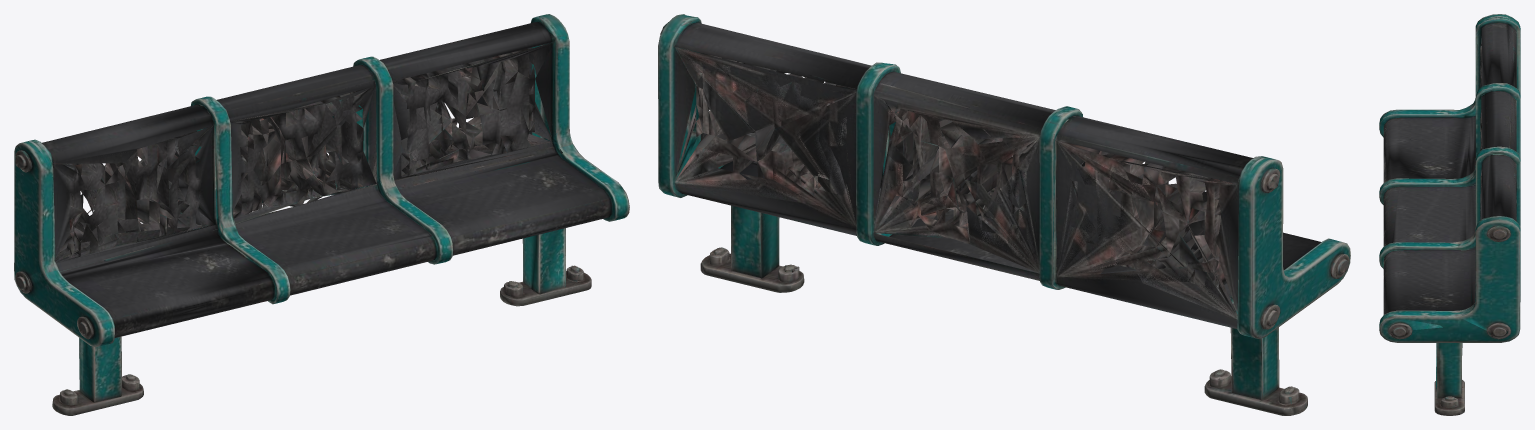
The model's file is bench-t25.glb.
The picture shows the model from 3 angles, left to right: view 1: azimuth 30°, elevation 25°; view 2: azimuth 150°, elevation 25°; view 3: azimuth 270°, elevation 25°; orthographic projection. The views are drawn at different scales.
Parts seen in each view (by area): view 1: bench-t25; view 2: bench-t25; view 3: bench-t25.
Part boxes in pixels (x1=…): bench-t25: x1=14, y1=14, x2=629, y2=415; bench-t25: x1=658, y1=14, x2=1350, y2=415; bench-t25: x1=1379, y1=14, x2=1520, y2=415.
Bounding box in the file's own units: 1.8 × 0.769 × 0.506.
Materials: 1 (1 with a texture image).
